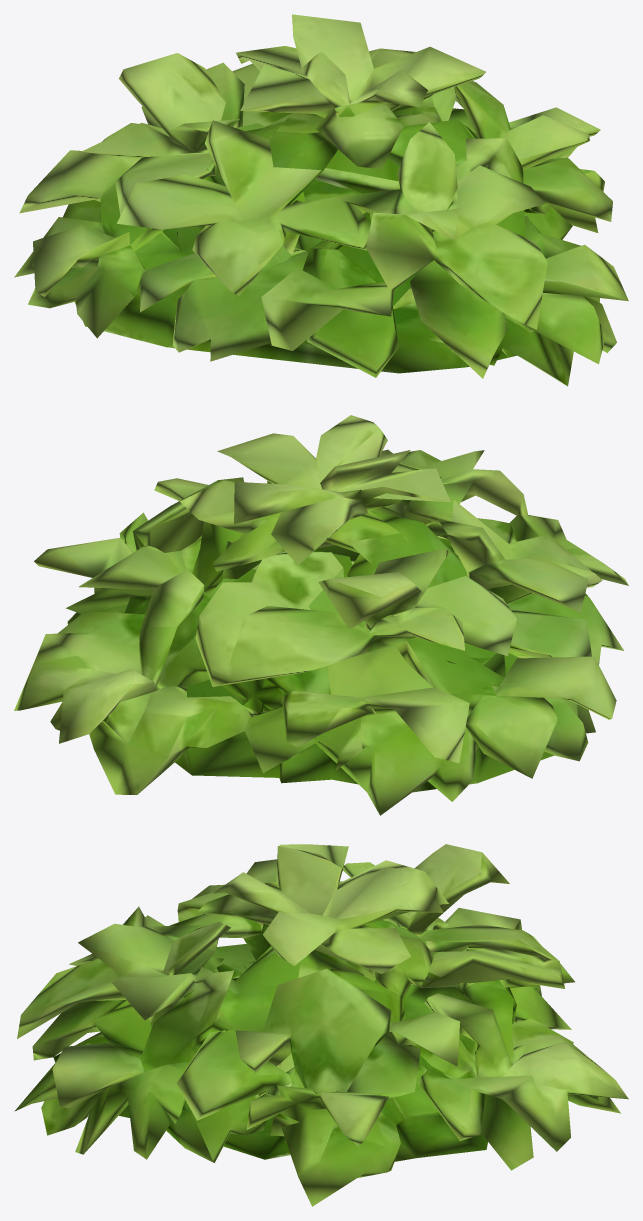
Rendered from bush.glb.
The picture shows the model from 3 angles, top to bottom: view 1: azimuth 30°, elevation 25°; view 2: azimuth 150°, elevation 25°; view 3: azimuth 270°, elevation 25°; orthographic projection. The views are drawn at different scales.
Visible parts, largest first — view 1: textured_mesh.obj; view 2: textured_mesh.obj; view 3: textured_mesh.obj.
Boxes of the visible parts, x1,y1,x2,y2 form: textured_mesh.obj: (14, 14, 628, 386); textured_mesh.obj: (14, 415, 628, 815); textured_mesh.obj: (14, 844, 628, 1206).
Size of what is drawn, in the model's own units: 2.56 by 1.07 by 2.58.
Materials: 1 (1 with a texture image).
